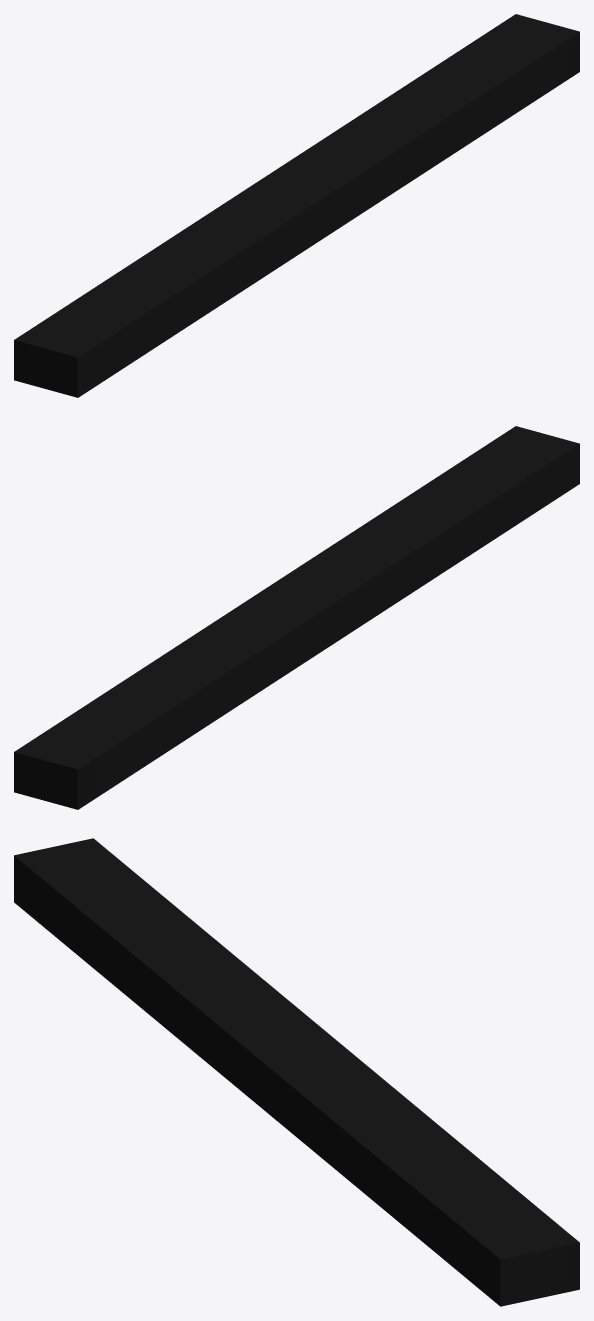
The model's file is frame__center_spine.glb.
The picture shows the model from 3 angles, top to bottom: view 1: azimuth 30°, elevation 25°; view 2: azimuth 210°, elevation 25°; view 3: azimuth 270°, elevation 25°; orthographic projection. The views are drawn at different scales.
Parts seen in each view (by area): view 1: world; view 2: world; view 3: world.
Part boxes in pixels (<box>): world: <box>14,14,579,397</box>; world: <box>14,426,579,809</box>; world: <box>14,838,579,1306</box>.
Bounding box in the file's own units: 0.6149 × 0.032 × 0.349.
Materials: 1 (1 with a texture image).
